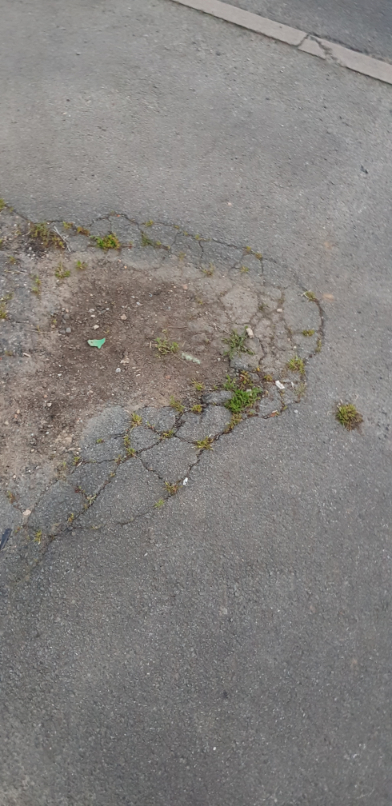pothole: (0, 220, 296, 524)
